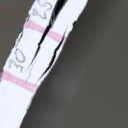crackTip: (16, 1, 71, 82)
